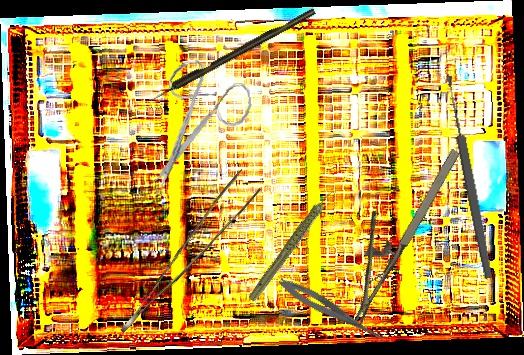Handpiece: (229, 187, 358, 304)
Hook Surgical: (148, 7, 317, 103)
Iris Scissors: (137, 53, 262, 191)
Micro Scissor: (275, 274, 392, 347)
Needle Holder: (319, 130, 466, 325)
Surgical Spoon: (443, 74, 495, 280)
Tissue Forceps: (96, 169, 269, 333)
